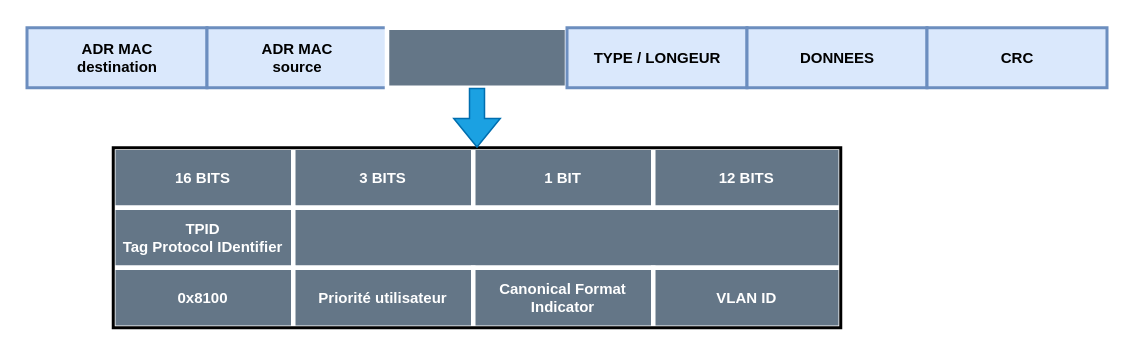
Image size: 1134x356. Some labels were removed from this diagram. The shapes that lost their labels are listed below. From the top down, each one's box as (x1, y1, x2, y2) in pixels, then its label:
(384, 25, 568, 89): TAG VLAN 802.1Q (32 bits)
(290, 205, 842, 269): TCI Tag Control Identifier
